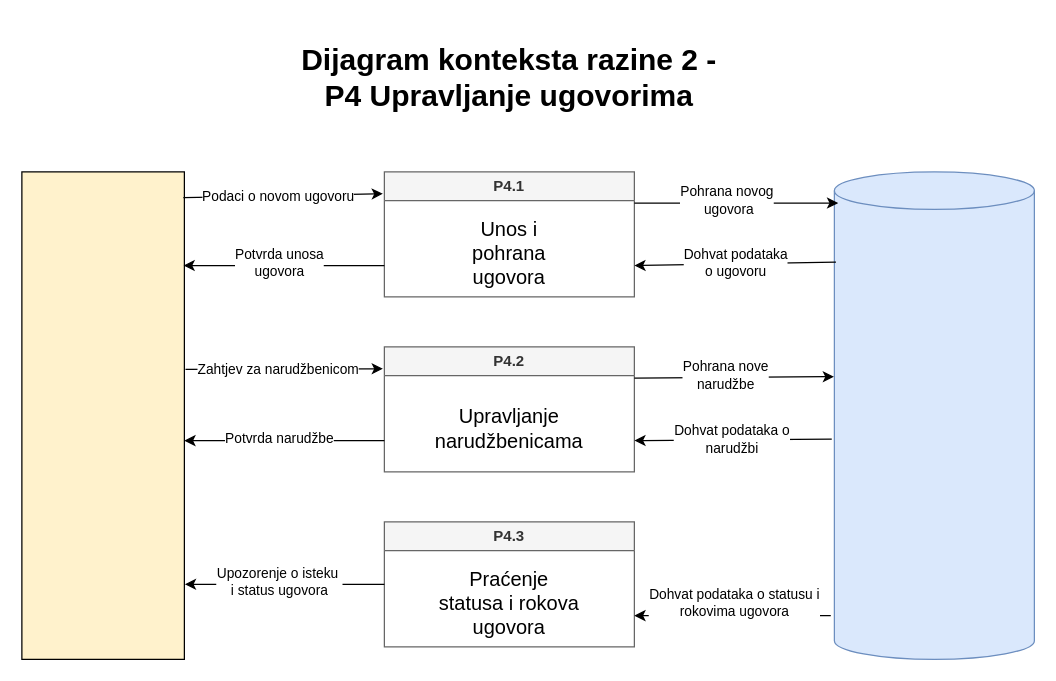
Some shapes in this 1056 by 681 pixel diagram are drawn without their labels. Here are the shapes that lost their labels. From the top down, the centre of each, then its label:
At (x=102, y=415): "Administrativno osoblje".
At (x=933, y=415): "Baza podataka".
